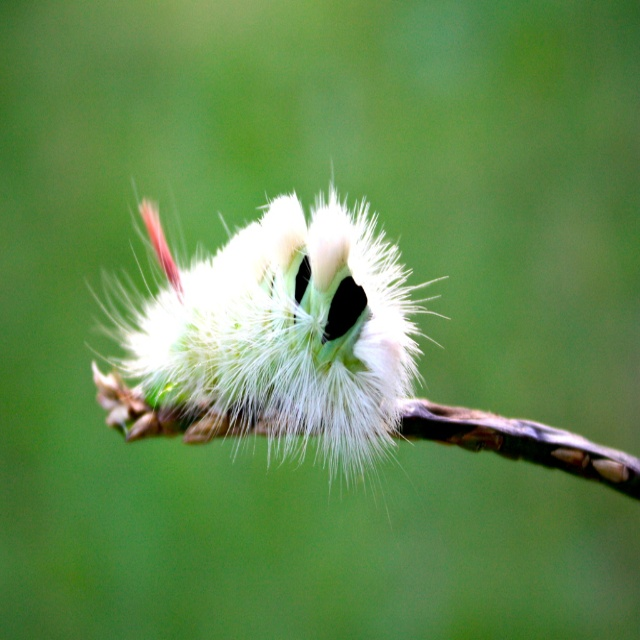Caterpillar: (86, 153, 449, 550)
